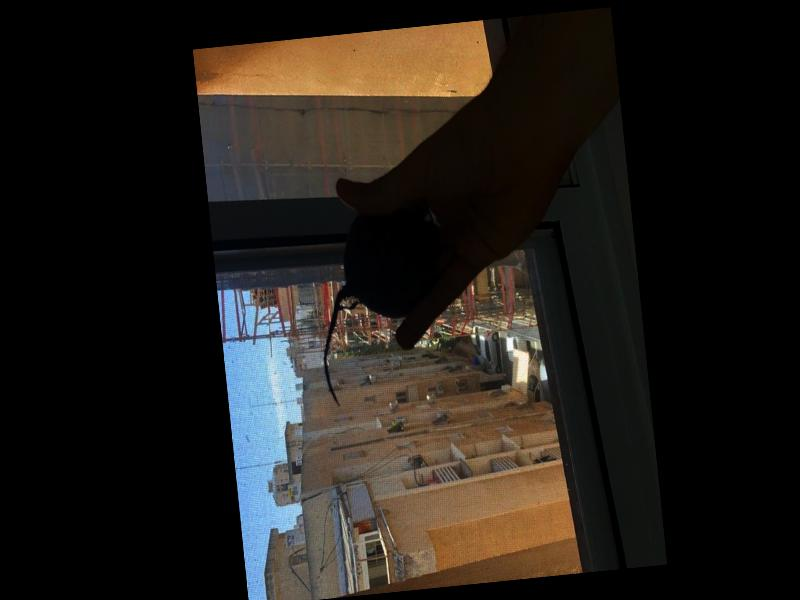Beet: (308, 207, 455, 408)
